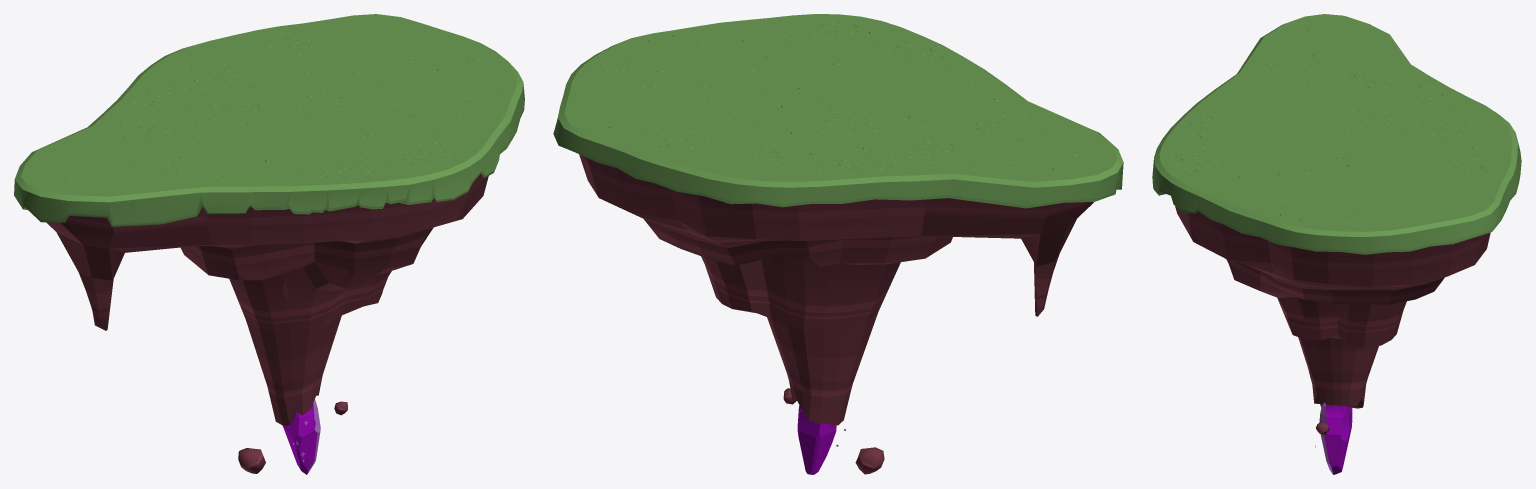
File: Island_Medium.fbx
The picture shows the model from 3 angles, left to right: view 1: azimuth 30°, elevation 25°; view 2: azimuth 150°, elevation 25°; view 3: azimuth 270°, elevation 25°; orthographic projection. The views are drawn at different scales.
Visible parts, largest first — view 1: Island_Medium; view 2: Island_Medium; view 3: Island_Medium.
Part boxes in pixels (box(x1,y1,x2,y2)): Island_Medium: box(14, 14, 524, 474); Island_Medium: box(553, 14, 1123, 474); Island_Medium: box(1152, 14, 1521, 474).
Size of the model in its own units: 1440 by 1006 by 1006.
